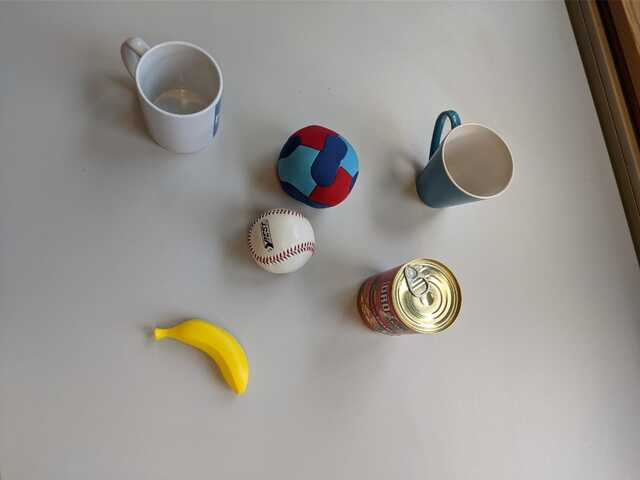005_tomato_soup_can: (358, 256, 464, 335)
011_banana: (151, 318, 254, 394)
025_mug: (120, 34, 229, 154), (416, 110, 515, 211)
055_baseball: (248, 208, 319, 273)
057_racquetball: (277, 124, 362, 209)
